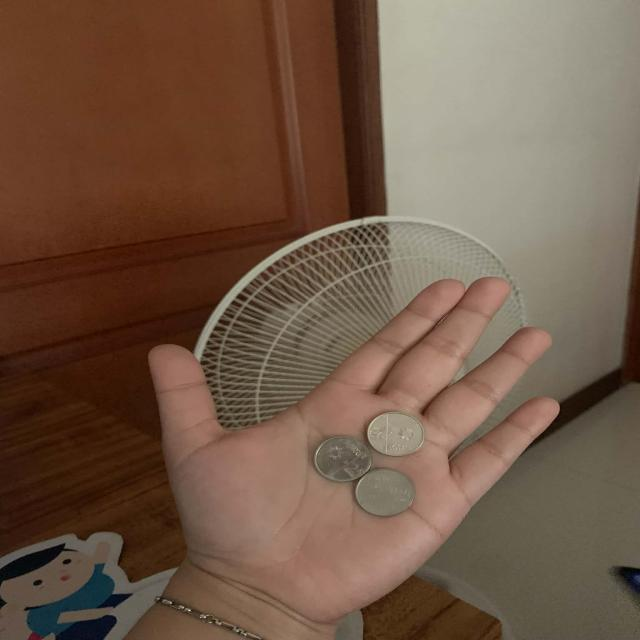25 cents: (363, 408, 430, 458), (352, 468, 416, 518), (312, 433, 374, 483)
